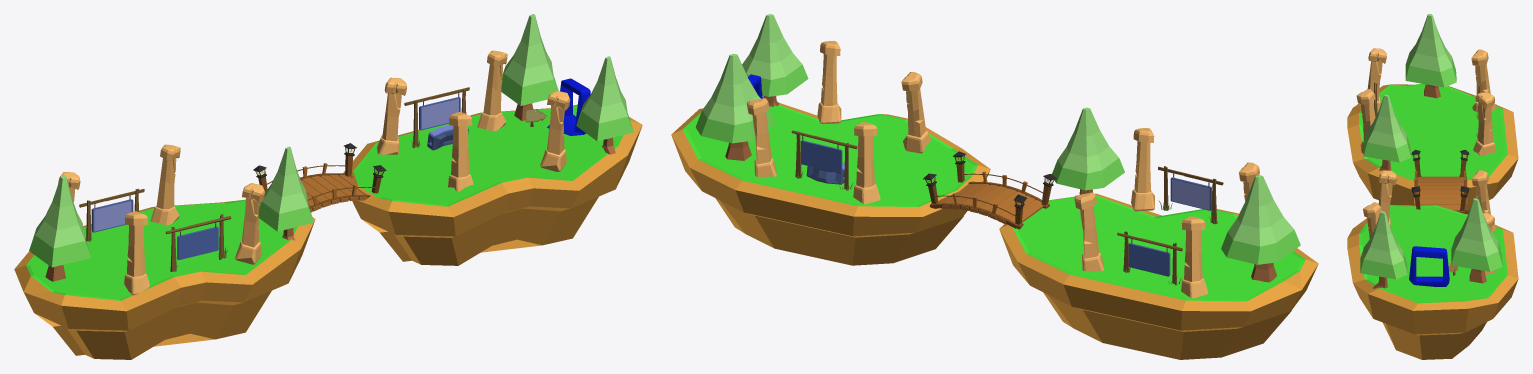
Rendered from Iceland Models.glb.
The picture shows the model from 3 angles, left to right: view 1: azimuth 30°, elevation 25°; view 2: azimuth 150°, elevation 25°; view 3: azimuth 270°, elevation 25°; orthographic projection. The views are drawn at different scales.
Visible parts, largest first — view 1: Cube.023, Cube, Cube.002, Cube.028, Cube.034, Cube.018, Cube.024, Cube.003, Cube.031, Cube.005, Cube.006, Cube.032 (+8 smaller); view 2: Cube, Cube.023, Cube.002, Cube.028, Cube.018, Cube.034, Cube.024, Cube.030, Cube.004, Cube.029, Cube.005, Cube.031 (+8 smaller); view 3: Cube.023, Cube, Cube.002, Cube.028, Cube.018, Cube.034, Cube.024, Cube.038, Cube.006, Cube.004, Cube.021, Cube.003 (+7 smaller).
Part boxes in pixels (x1,y1,x2,y2): Cube.023: [343, 104, 642, 265]; Cube: [14, 199, 315, 359]; Cube.002: [29, 175, 91, 267]; Cube.028: [501, 14, 558, 105]; Cube.034: [576, 56, 633, 141]; Cube.018: [258, 146, 313, 231]; Cube.024: [300, 163, 367, 212]; Cube.003: [124, 211, 149, 295]; Cube.031: [540, 90, 570, 171]; Cube.005: [235, 183, 264, 264]; Cube.006: [150, 144, 180, 225]; Cube.032: [477, 50, 507, 131]; Cube: [999, 193, 1318, 359]; Cube.023: [671, 103, 990, 265]; Cube.002: [1221, 175, 1300, 264]; Cube.028: [695, 53, 775, 143]; Cube.018: [1052, 107, 1124, 190]; Cube.034: [742, 14, 808, 96]; Cube.024: [937, 171, 1042, 224]; Cube.030: [853, 122, 880, 204]; Cube.004: [1181, 216, 1208, 298]; Cube.029: [901, 72, 931, 153]; Cube.005: [1131, 128, 1154, 211]; Cube.031: [817, 40, 841, 123]; Cube.023: [1347, 205, 1518, 359]; Cube: [1347, 83, 1518, 214]; Cube.002: [1405, 14, 1456, 87]; Cube.028: [1451, 198, 1502, 271]; Cube.018: [1363, 94, 1410, 162]; Cube.034: [1360, 211, 1407, 279]; Cube.024: [1414, 171, 1467, 211]; Cube.038: [1409, 246, 1449, 286]; Cube.006: [1473, 92, 1495, 155]; Cube.004: [1471, 49, 1496, 111]; Cube.021: [1411, 149, 1469, 213]; Cube.003: [1367, 48, 1386, 110].
Bounding box in the file's own units: 1268 × 397 × 371.
